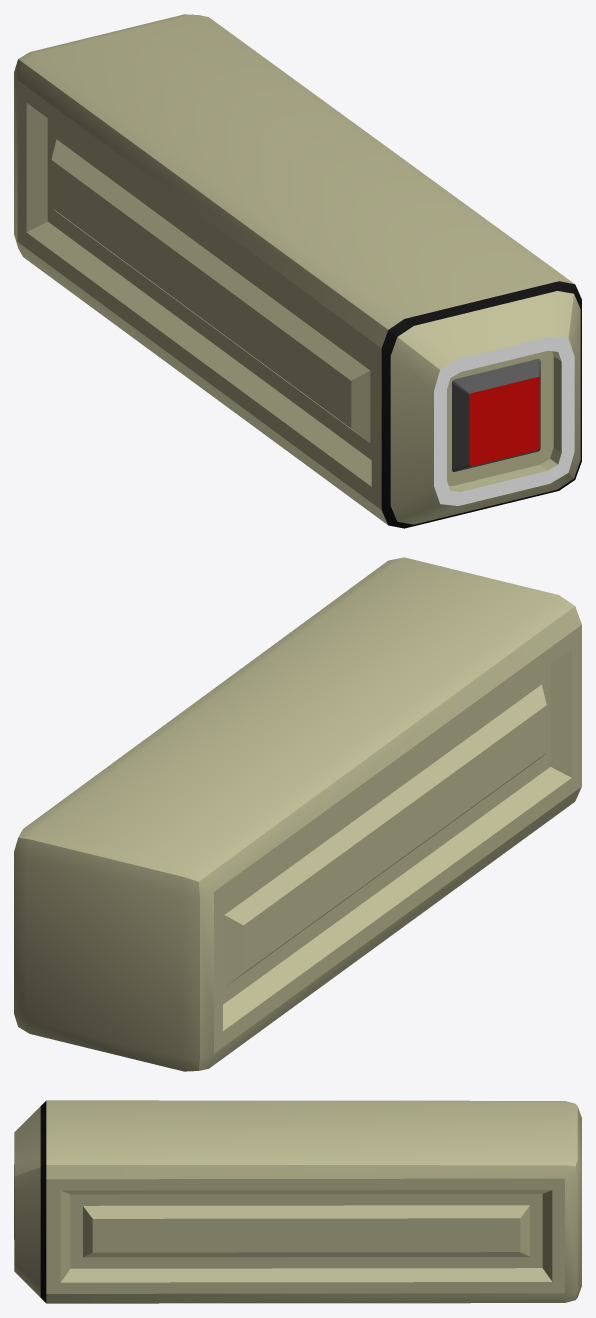
3 renders of one model, top to bottom at view 1: azimuth 30°, elevation 25°; view 2: azimuth 150°, elevation 25°; view 3: azimuth 270°, elevation 25°, orthographic. The views are drawn at different scales.
Parts seen in each view (by area): view 1: Plane003.005; view 2: Plane003.005; view 3: Plane003.005.
Boxes of the visible parts, <box> form: Plane003.005: <box>14,14,581,528</box>; Plane003.005: <box>14,557,581,1071</box>; Plane003.005: <box>14,1100,581,1303</box>.
Bounding box in the file's own units: 23.07 × 23.07 × 79.9.
